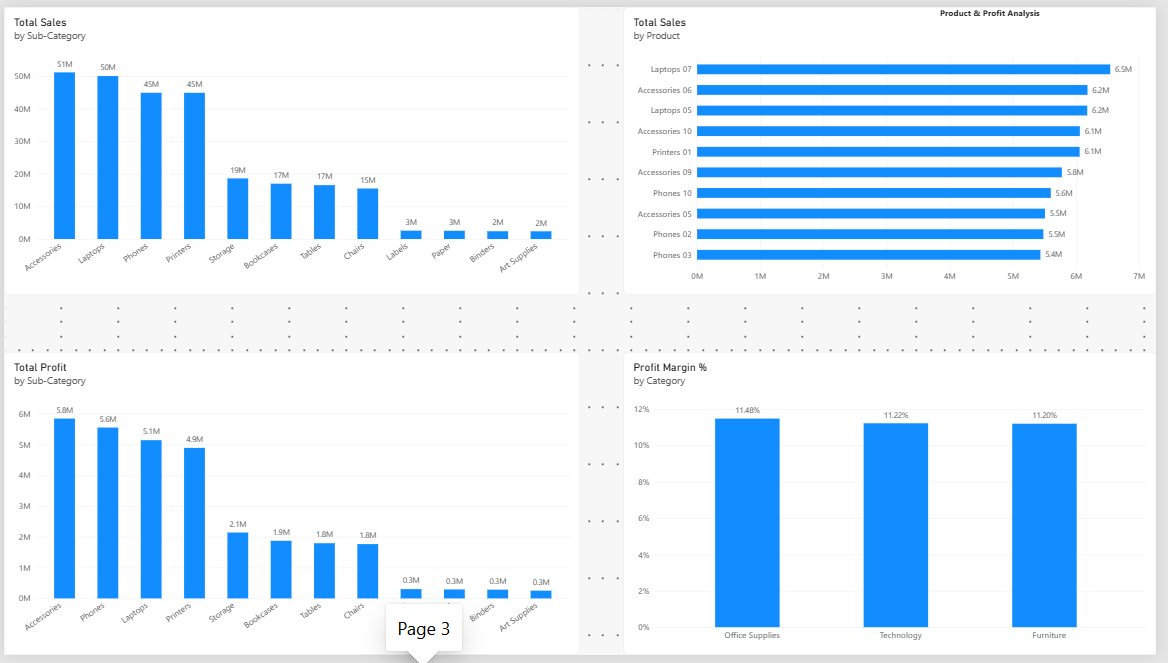

The dashboard page shown, as its layout file describes it:
{"tool":"powerbi","page":{"name":"Page 3","canvas":[1920,1080],"ordinal":2},"visuals":[{"type":"clusteredColumnChart","fields":{"Category":["Sales_Data.Sub-Category"],"Y":["Calendar.Total Sales"]},"box":[0,0,960,480],"z":0},{"type":"clusteredColumnChart","fields":{"Category":["Sales_Data.Sub-Category"],"Y":["Sales_Data.Total Profit"]},"box":[0,576,960,504],"z":1000},{"type":"clusteredBarChart","fields":{"Category":["Sales_Data.Product"],"Y":["Calendar.Total Sales"]},"box":[1032,0,888,480],"z":2000},{"type":"clusteredColumnChart","fields":{"Category":["Sales_Data.Category"],"Y":["Sales_Data.Profit Margin %"]},"box":[1032,576,888,504],"z":3000},{"type":"textbox","box":[1364,0,556,504],"z":4000}]}

Visuals, with their boxes in screenshot pixels (x1, y1, x2, y2), scaled from the page's 1920x1080 canvas onto the 1168x663 screenshot:
clusteredColumnChart - Sales_Data.Sub-Category x Calendar.Total Sales: 0,0,584,295
clusteredColumnChart - Sales_Data.Sub-Category x Sales_Data.Total Profit: 0,354,584,662
clusteredBarChart - Sales_Data.Product x Calendar.Total Sales: 628,0,1167,295
clusteredColumnChart - Sales_Data.Category x Sales_Data.Profit Margin %: 628,354,1167,662
textbox: 830,0,1167,309
